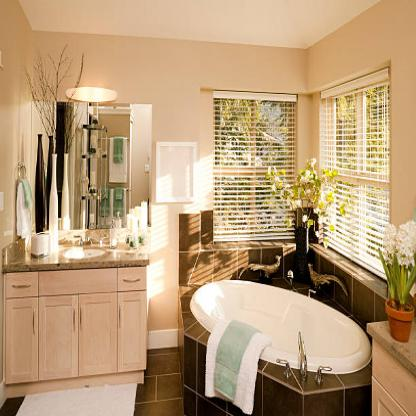Cabinet: (0, 267, 148, 402)
Window: (317, 65, 393, 286), (212, 92, 296, 237)
